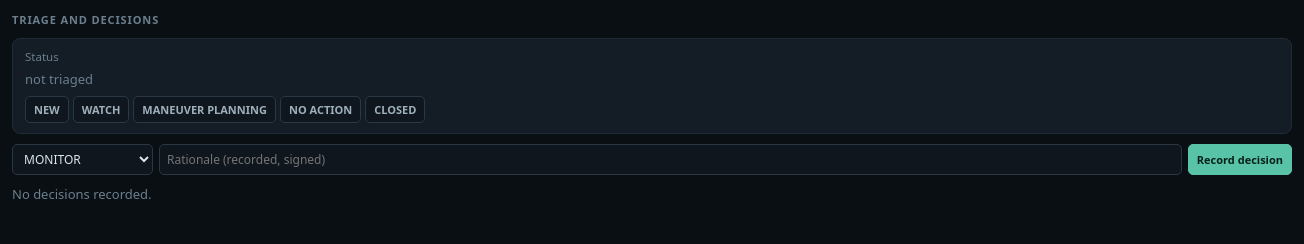
OpsPanel - the decision log › shows and logs the server's reason when it refuses a write
Click the button "WATCH": (101, 110) [73, 96, 129, 124]
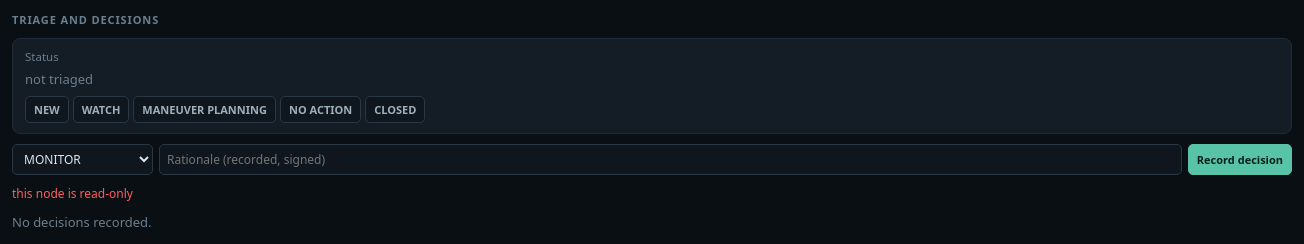
expect the text "this node is read-only" is shown: met, box [12, 186, 133, 202]
